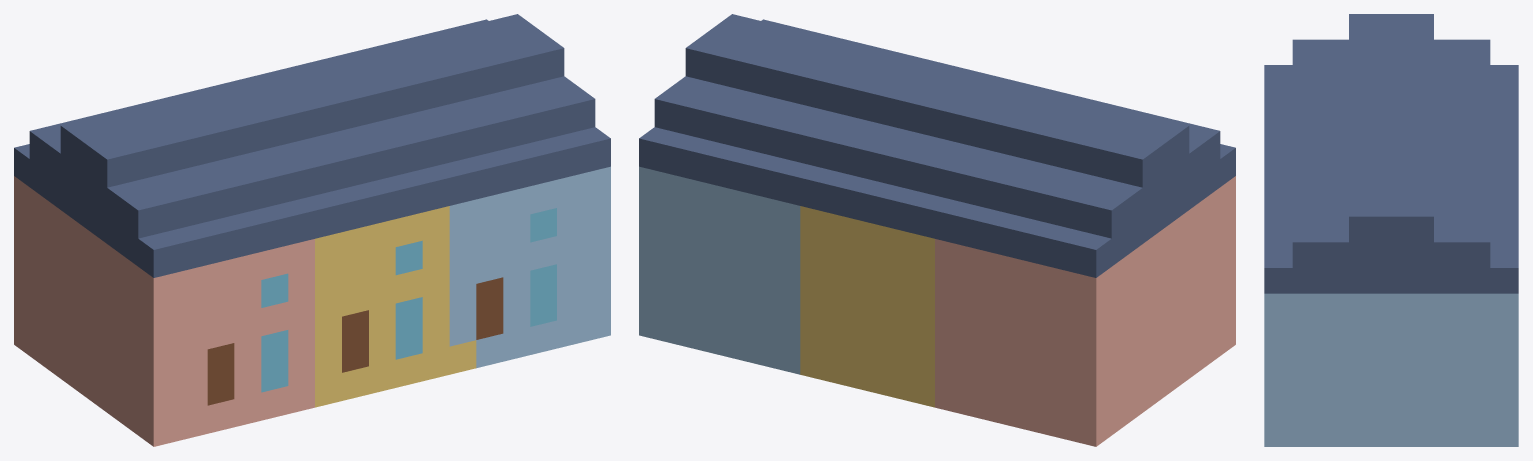
The model's file is terraced_house.glb.
3 views of the same model, side by side, from view 1: azimuth 30°, elevation 25°; view 2: azimuth 150°, elevation 25°; view 3: azimuth 270°, elevation 25° (orthographic). The views are drawn at different scales.
Visible parts, largest first — view 1: terraced_house_roof_slate, terraced_house_wall_pink, terraced_house_wall_blue, terraced_house_wall_yellow, terraced_house_window, terraced_house_door; view 2: terraced_house_roof_slate, terraced_house_wall_pink, terraced_house_wall_blue, terraced_house_wall_yellow; view 3: terraced_house_roof_slate, terraced_house_wall_blue.
Boxes of the visible parts, x1,y1,x2,y2 form: terraced_house_roof_slate: (14, 14, 610, 277); terraced_house_wall_pink: (14, 176, 314, 446); terraced_house_wall_blue: (449, 166, 610, 368); terraced_house_wall_yellow: (315, 206, 476, 407); terraced_house_window: (261, 208, 556, 392); terraced_house_door: (207, 277, 503, 405); terraced_house_roof_slate: (639, 14, 1235, 277); terraced_house_wall_pink: (935, 176, 1235, 446); terraced_house_wall_blue: (639, 166, 800, 374); terraced_house_wall_yellow: (800, 206, 934, 407); terraced_house_roof_slate: (1264, 14, 1518, 293); terraced_house_wall_blue: (1264, 293, 1518, 446).
Size of the model in its own units: 18.25 by 9.66 by 9.66.
